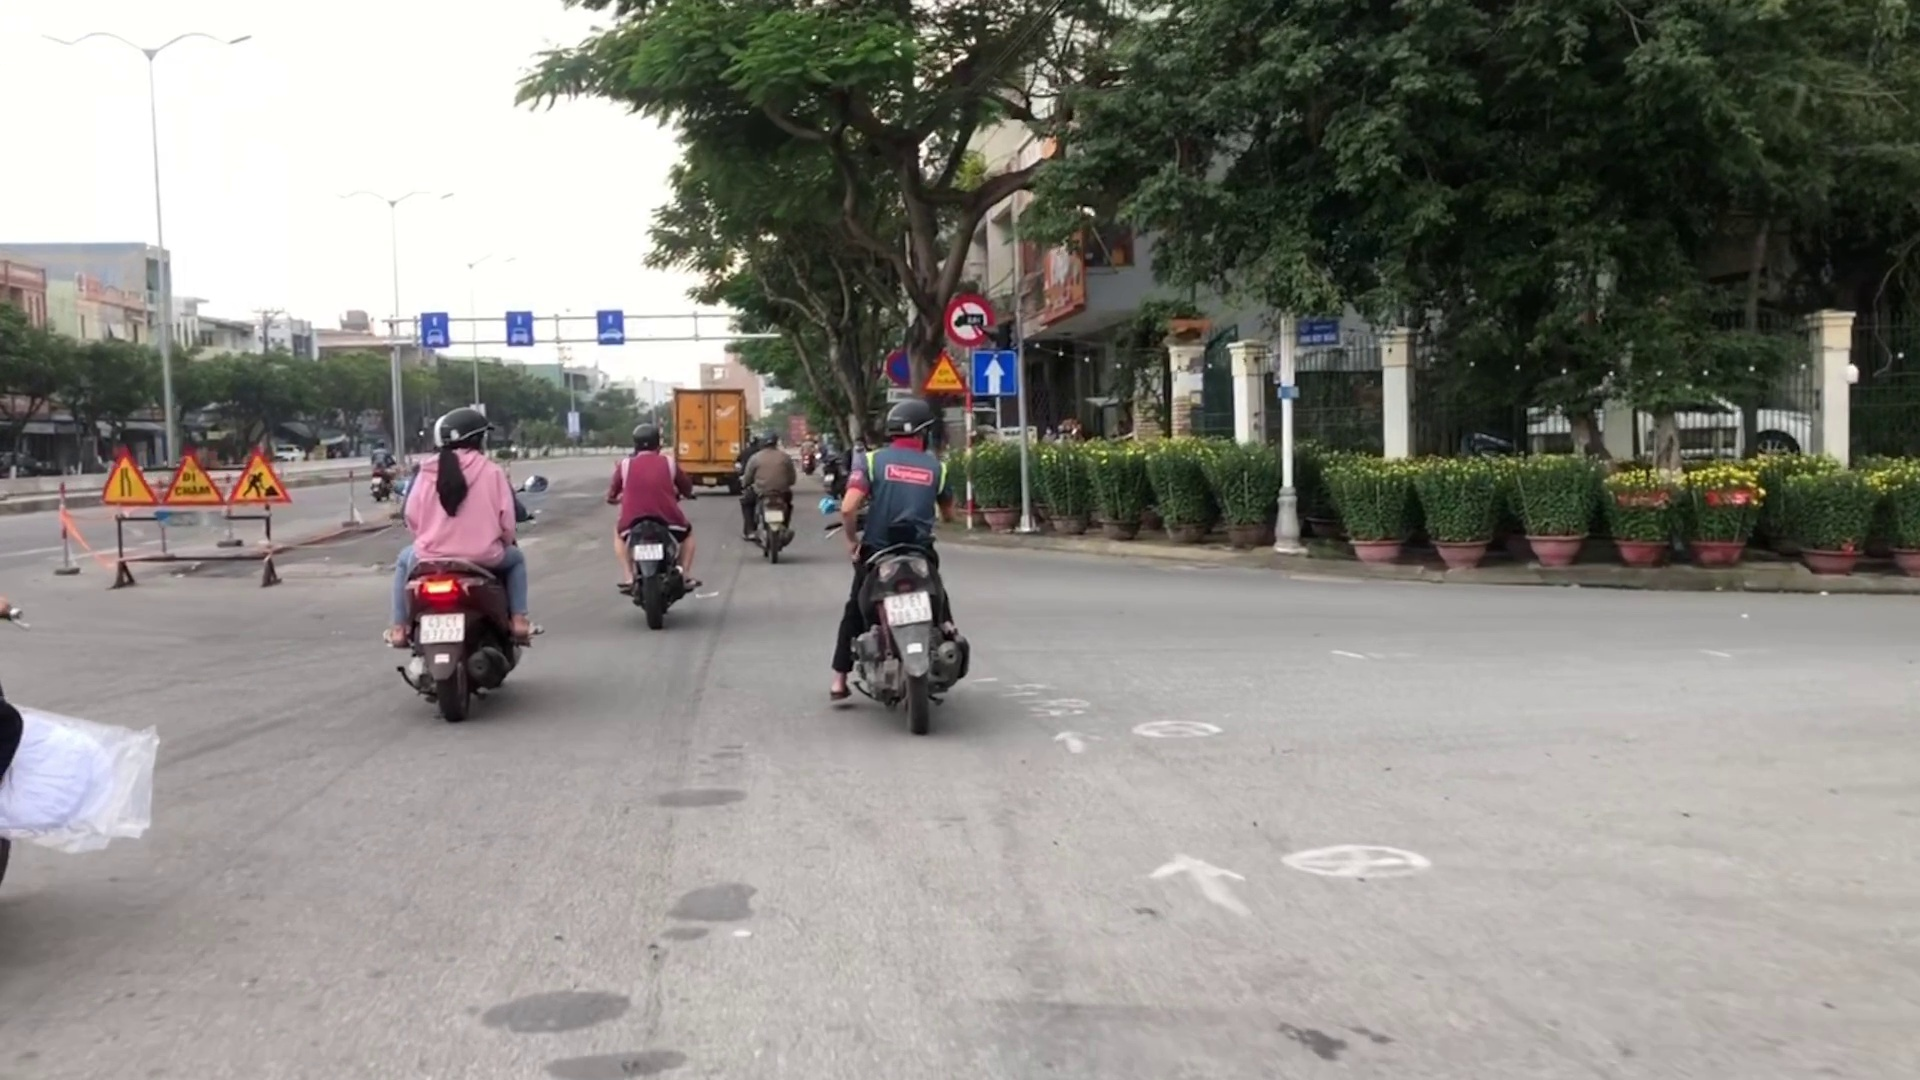Bien khac: (945, 297, 992, 344), (975, 345, 1015, 397), (919, 351, 967, 394)
